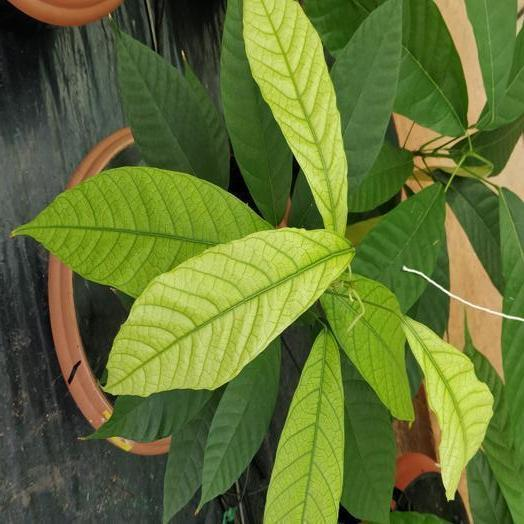Iron: (107, 228, 353, 395), (14, 166, 272, 296), (243, 0, 347, 232), (402, 316, 492, 499), (263, 328, 343, 523), (321, 274, 412, 419)
